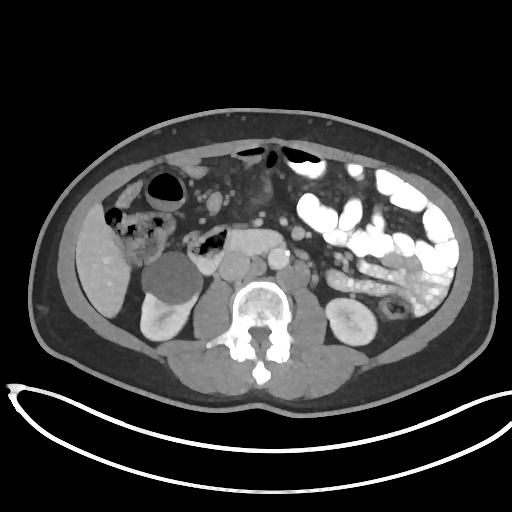Lesion: (139, 247, 204, 308)
